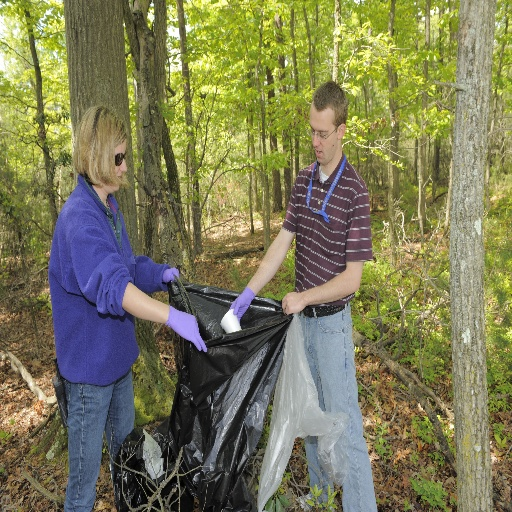hand: (170, 307, 208, 356), (217, 290, 256, 337), (280, 291, 306, 316), (160, 266, 180, 286)
